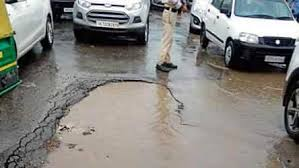pothole: (31, 73, 263, 168)
